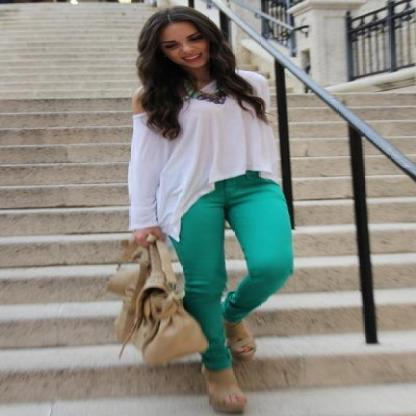bag: (110, 241, 207, 365)
pants: (170, 175, 294, 370)
shirt: (123, 81, 282, 241)
shoe: (196, 320, 261, 406)
